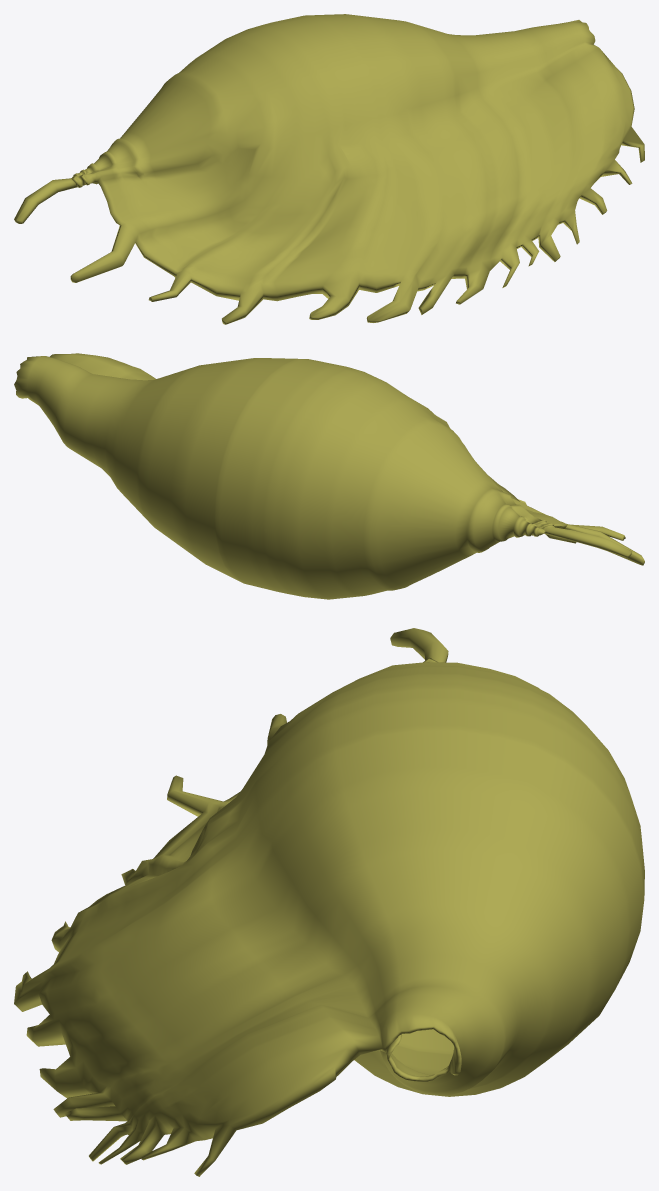
The model's file is shell1.obj.
3 views of the same model, one above another, from view 1: azimuth 30°, elevation 25°; view 2: azimuth 150°, elevation 25°; view 3: azimuth 270°, elevation 25° (orthographic). The views are drawn at different scales.
Parts seen in each view (by area): view 1: Shell; view 2: Shell; view 3: Shell.
Boxes of the visible parts, x1,y1,x2,y2 form: Shell: [14, 14, 644, 324]; Shell: [14, 353, 644, 599]; Shell: [14, 628, 644, 1176].
Size of what is drawn, in the model's own units: 0.3001 by 0.098 by 0.1638.
